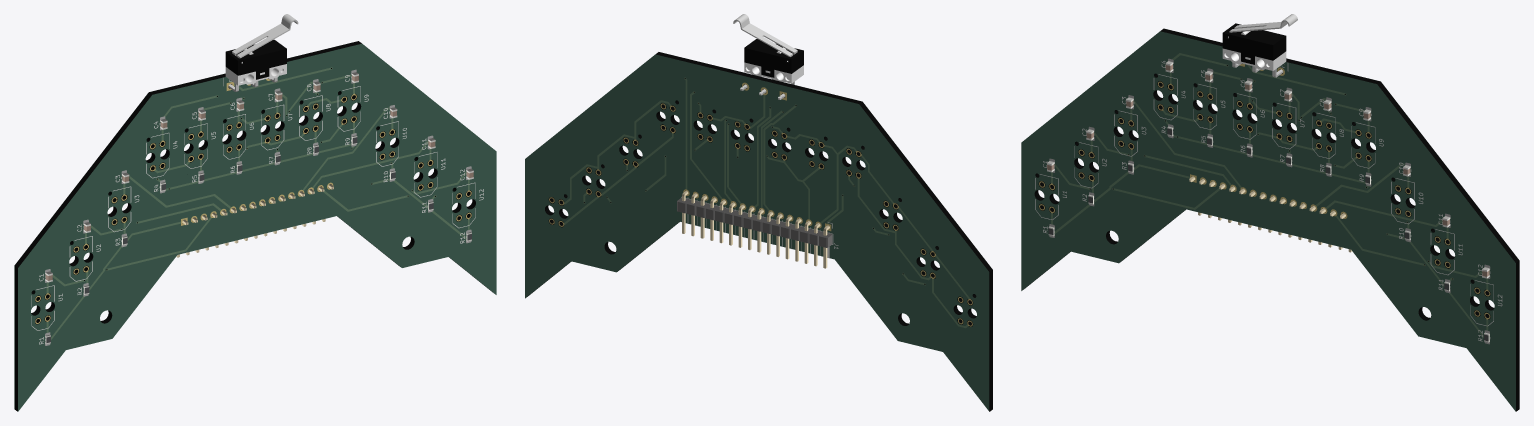
File: Sensor Array.glb
The picture shows the model from 3 angles, left to right: view 1: azimuth 30°, elevation 25°; view 2: azimuth 150°, elevation 25°; view 3: azimuth 330°, elevation 25°; orthographic projection. The views are drawn at different scales.
Parts seen in each view (by area): view 1: Shape (×8); view 2: Shape (×7); view 3: Shape (×8).
Boxes of the visible parts, x1,y1,x2,y2 form: Shape (×8): [14, 23, 496, 411]; Shape (×7): [525, 23, 992, 411]; Shape (×8): [1021, 23, 1519, 411].
Size of the model in its own units: 125 by 83.56 by 9.89.
